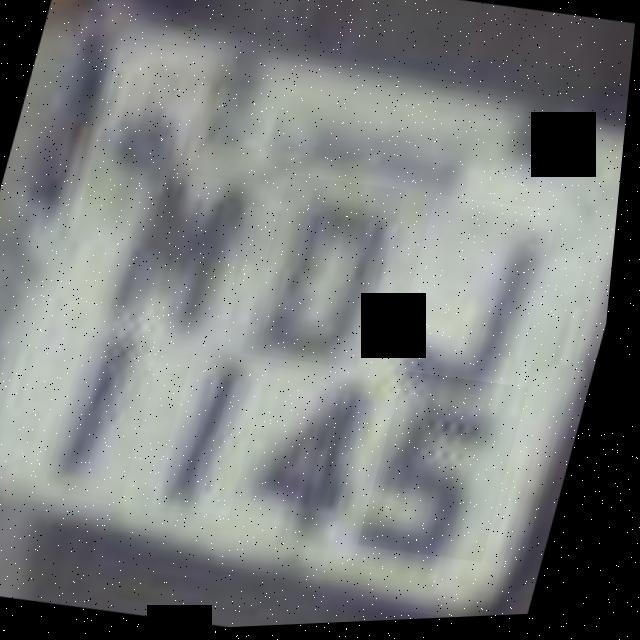1: (51, 331, 171, 506), (160, 354, 278, 521)
4: (248, 346, 423, 562)
5: (367, 371, 538, 571)
J: (395, 194, 566, 395)
M: (93, 164, 271, 365)
O: (246, 173, 410, 376)
